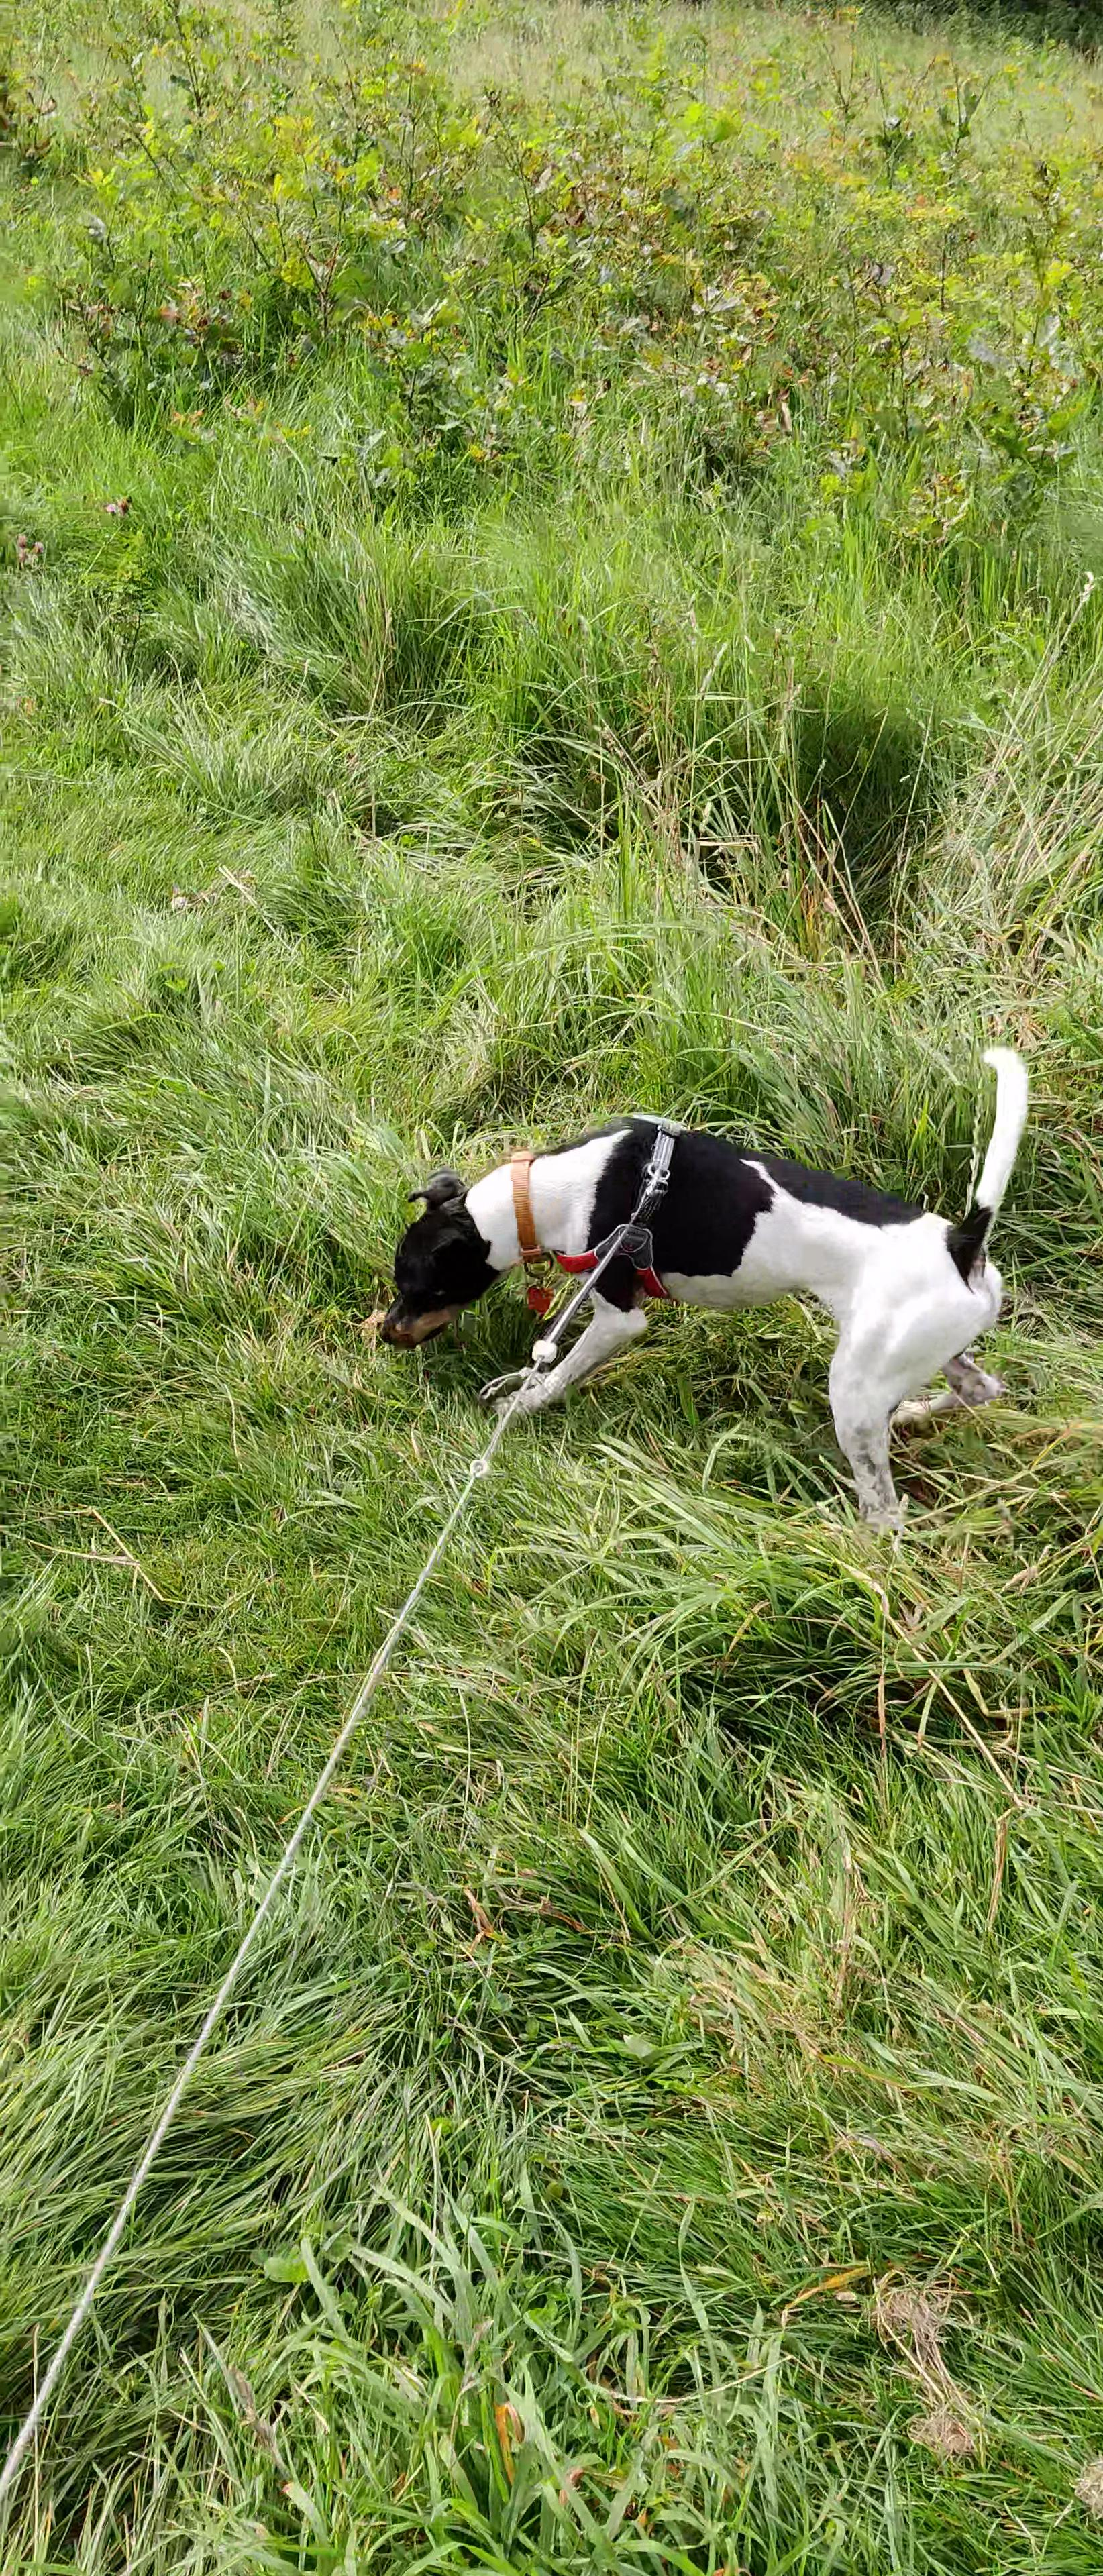Dog: (360, 1032, 1045, 1551)
